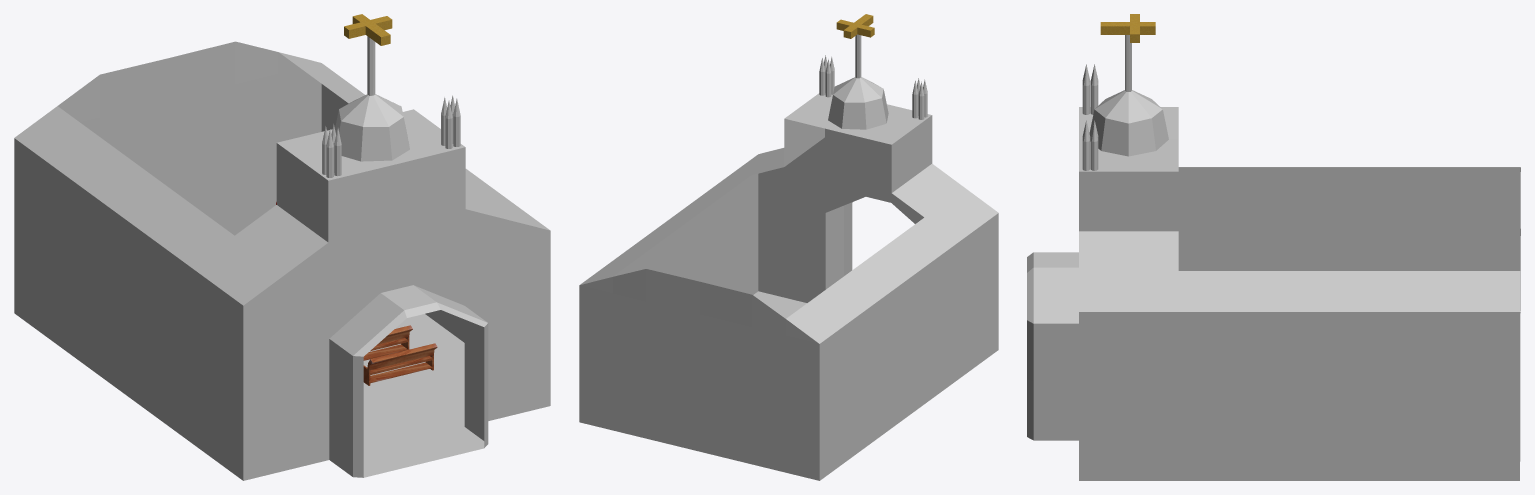
File: iglesia.fbx
3 renders of one model, left to right at view 1: azimuth 30°, elevation 25°; view 2: azimuth 150°, elevation 25°; view 3: azimuth 270°, elevation 25°, orthographic. The views are drawn at different scales.
Visible parts, largest first — view 1: Cube.002, Cube.003, Cube.000, Cube.014, Cube.016; view 2: Cube.002, Cube.003, Cube.014; view 3: Cube.002, Cube.003, Cube.014.
Part boxes in pixels (x1,y1,x2,y2): Cube.002: [14, 41, 550, 480]; Cube.003: [335, 36, 409, 161]; Cube.000: [363, 343, 437, 385]; Cube.014: [344, 14, 392, 45]; Cube.016: [363, 325, 412, 360]; Cube.002: [579, 93, 998, 480]; Cube.003: [828, 34, 888, 129]; Cube.014: [836, 14, 874, 38]; Cube.002: [1027, 107, 1520, 480]; Cube.003: [1089, 35, 1168, 156]; Cube.014: [1100, 14, 1155, 42].
Size of the model in its own units: 1978 by 2454 by 2855.
